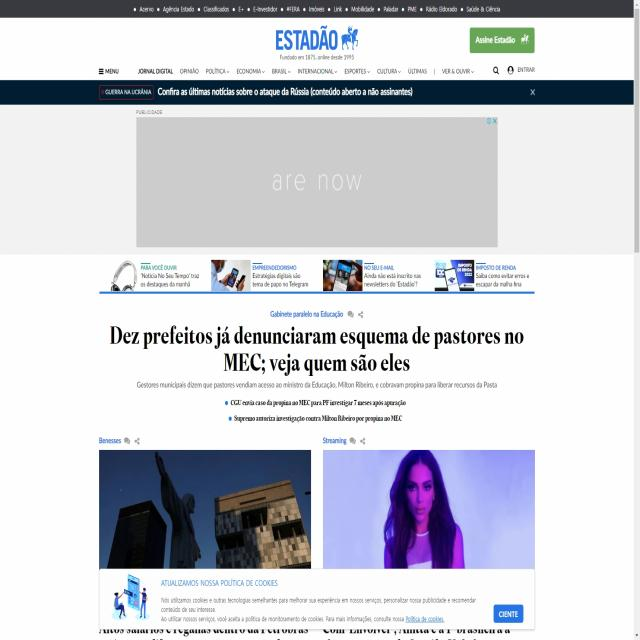menu-bar: (94, 60, 538, 80)
